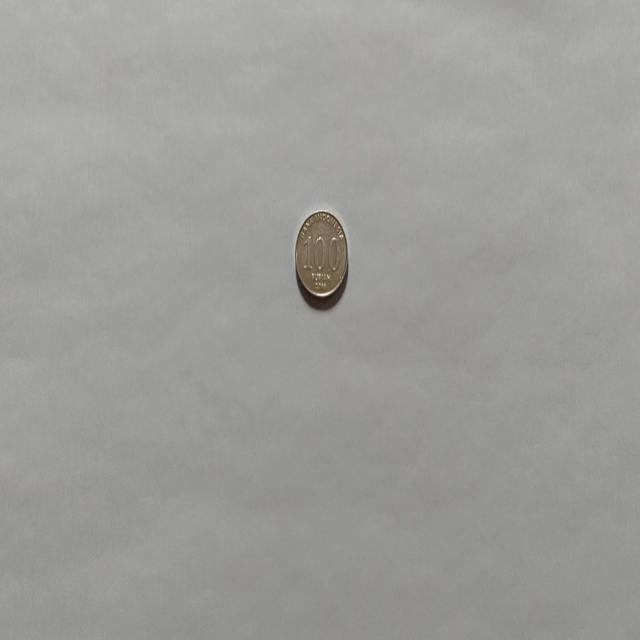seratus rupiah: (294, 208, 348, 302)
